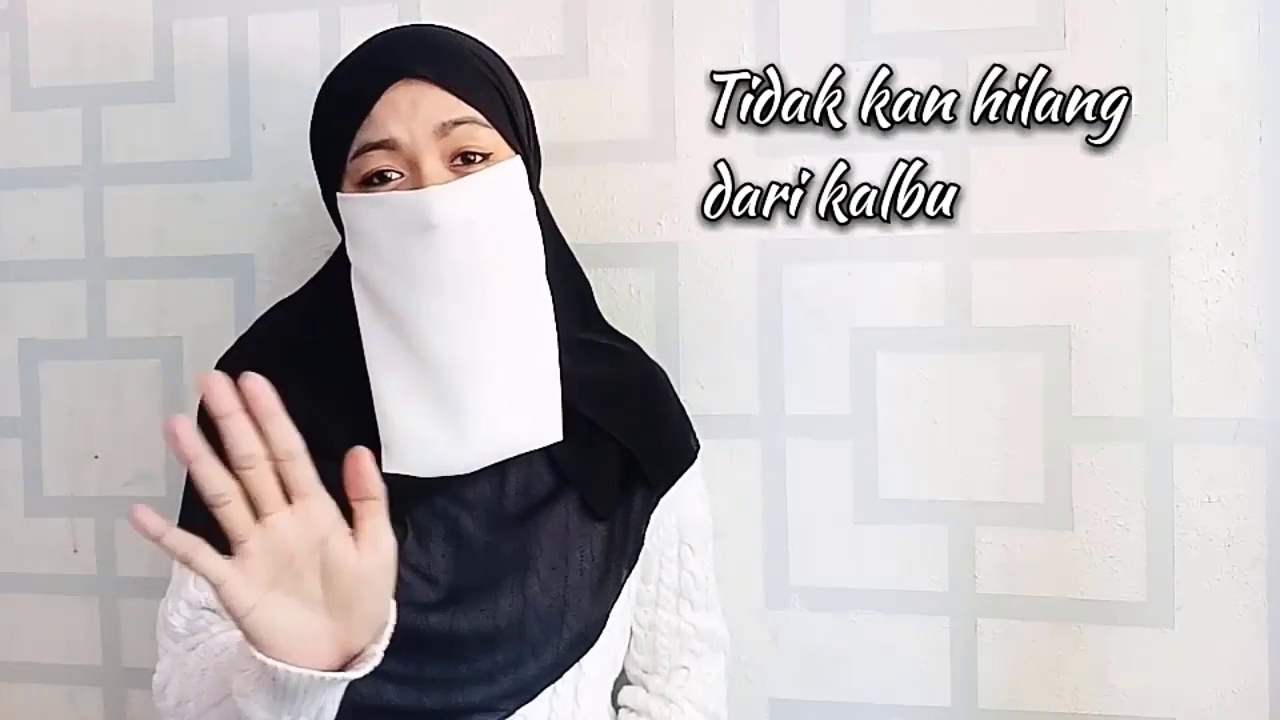TIDAK: (122, 21, 543, 674)
